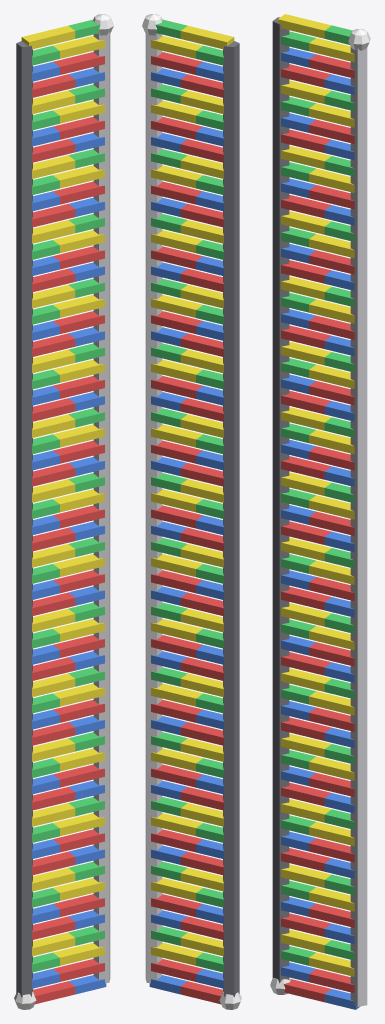
Rendered from DNA_Ladder_Whole.fbx.
3 renders of one model, left to right at view 1: azimuth 30°, elevation 25°; view 2: azimuth 150°, elevation 25°; view 3: azimuth 330°, elevation 25°, orthographic.
Parts seen in each view (by area): view 1: DNA_Ladder_Whole; view 2: DNA_Ladder_Whole; view 3: DNA_Ladder_Whole.
Boxes of the visible parts, x1,y1,x2,y2 form: DNA_Ladder_Whole: (14,14,113,1009); DNA_Ladder_Whole: (142,14,241,1009); DNA_Ladder_Whole: (270,14,370,1009).
Size of the model in its own units: 0.063 by 0.603 by 0.013.
